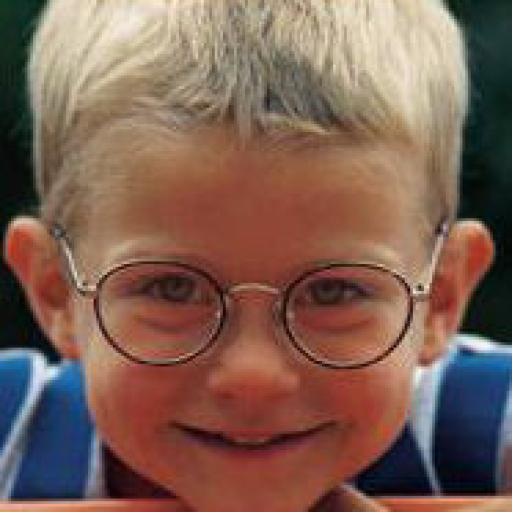Autism: (76, 51, 465, 491)
